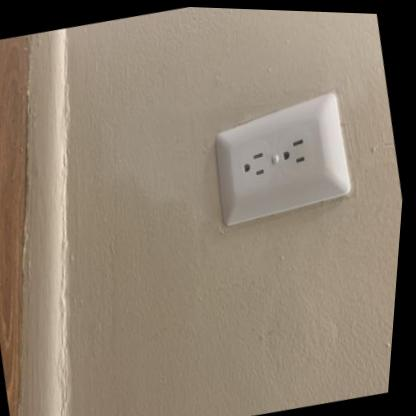OUTLET: (193, 85, 363, 240)
